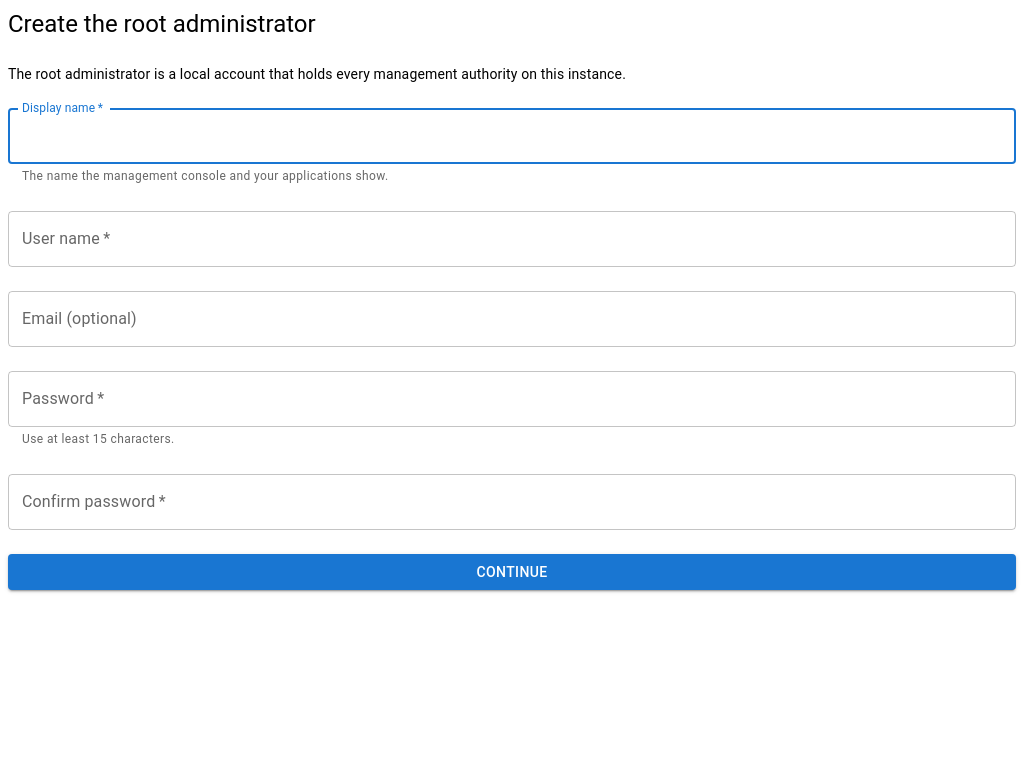
Test: RootAccountStep › refuses a confirmation that differs without continuing
This screenshot has width=1024, height=768.
In the field labelled "Display name *": point(512, 136) [8, 108, 1016, 164], type "  Root Admin  "
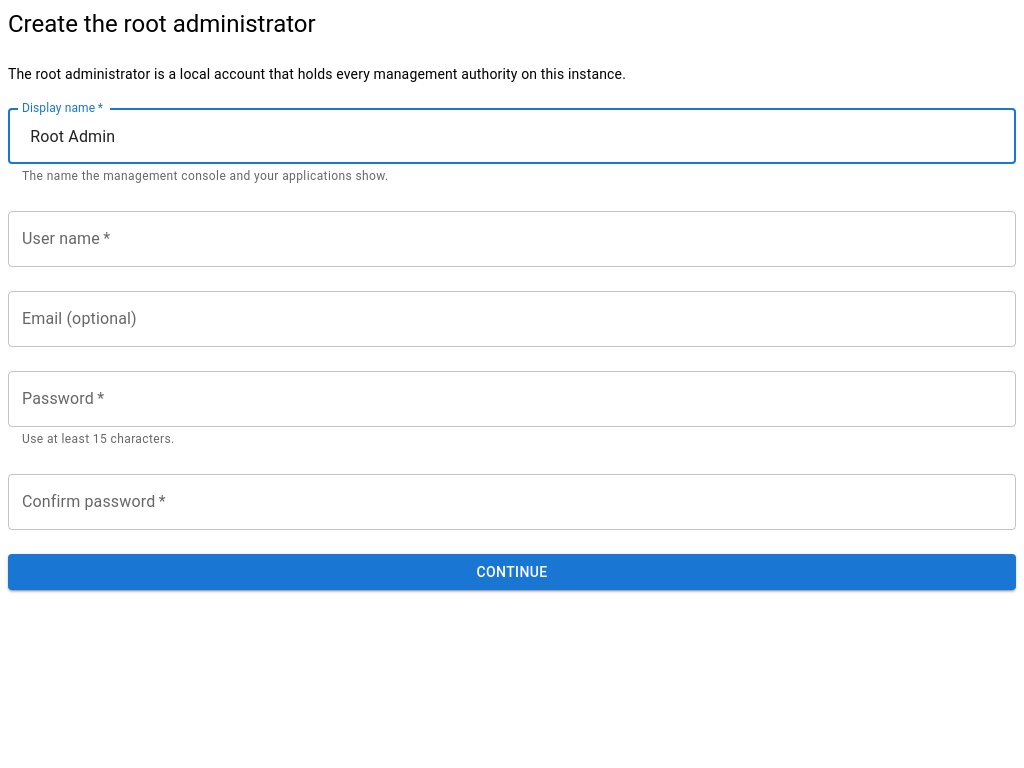
In the field labelled "User name *": point(512, 239) [8, 211, 1016, 267], type "  root  "
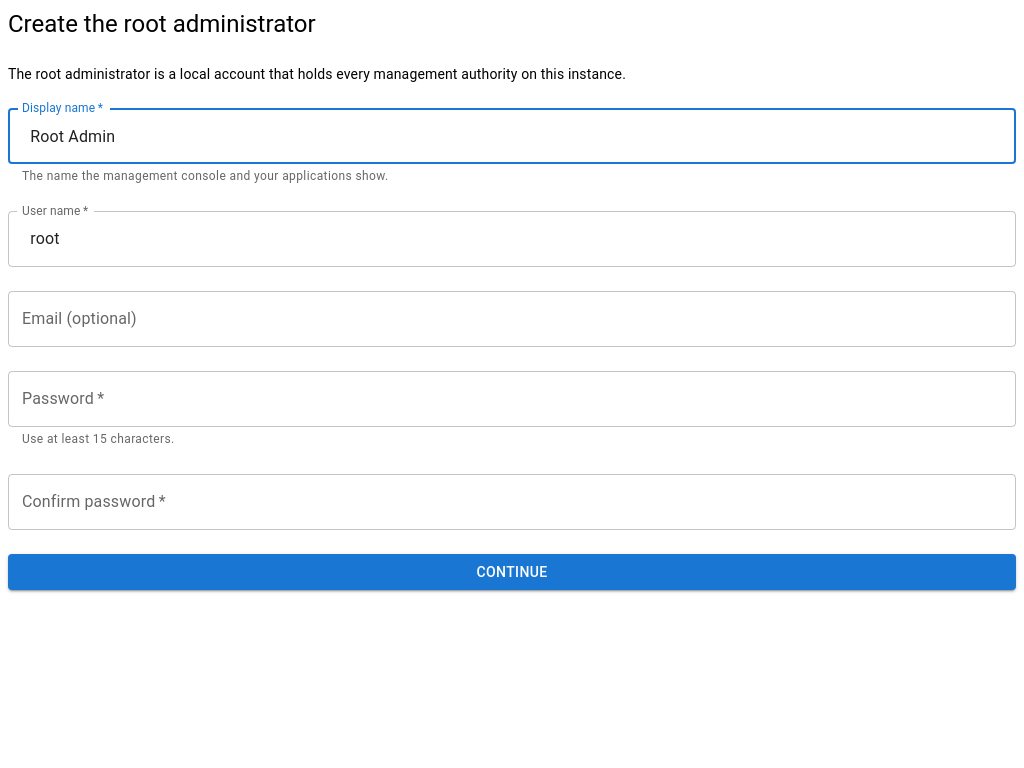
In the password field labelled "Password *": point(512, 399) [8, 371, 1016, 427], type "a long passphrase!"
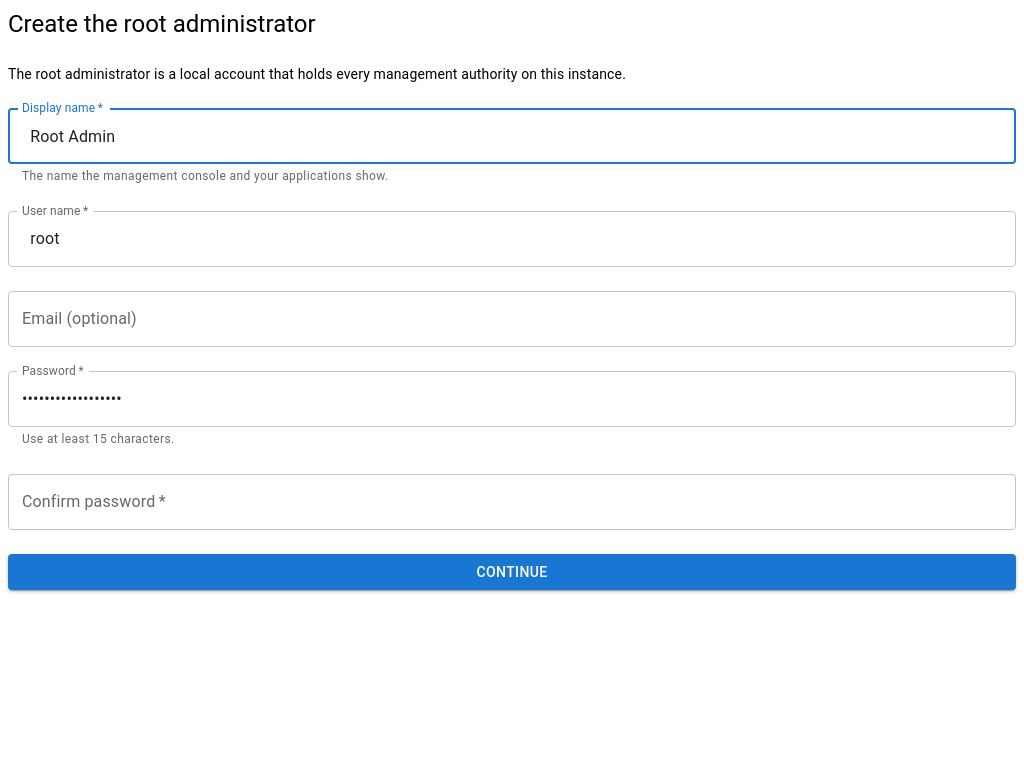
In the password field labelled "Confirm password *": point(512, 502) [8, 474, 1016, 530], type "another long passphrase!"
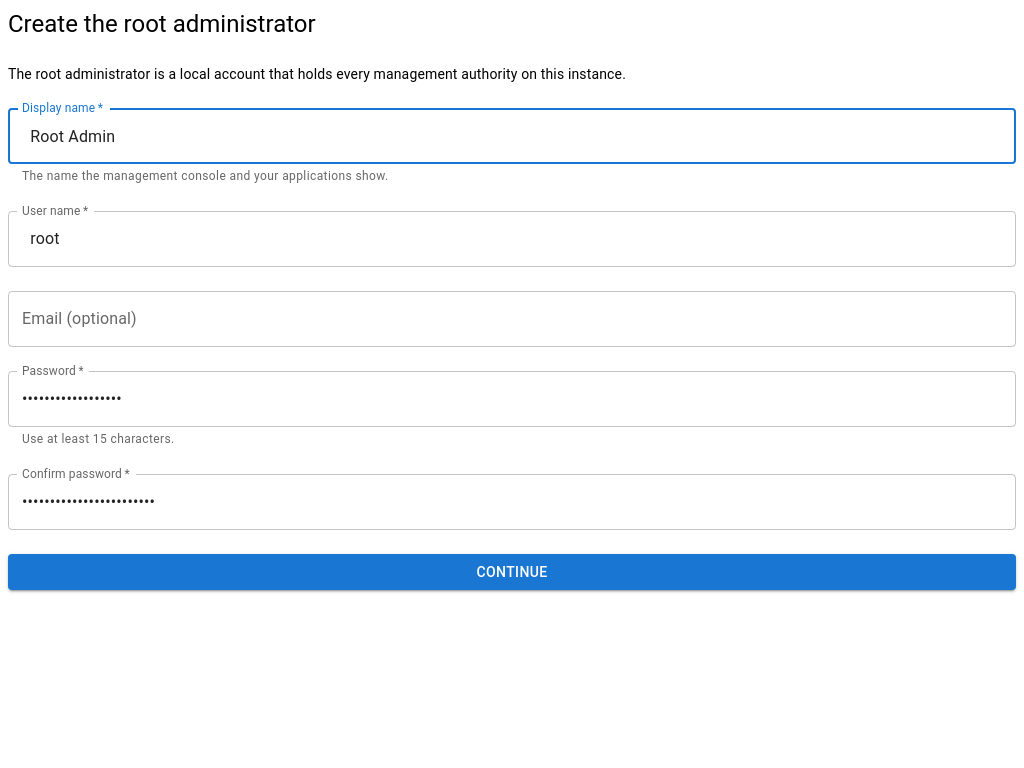
Click the button "Continue": point(512, 572) [8, 554, 1016, 590]
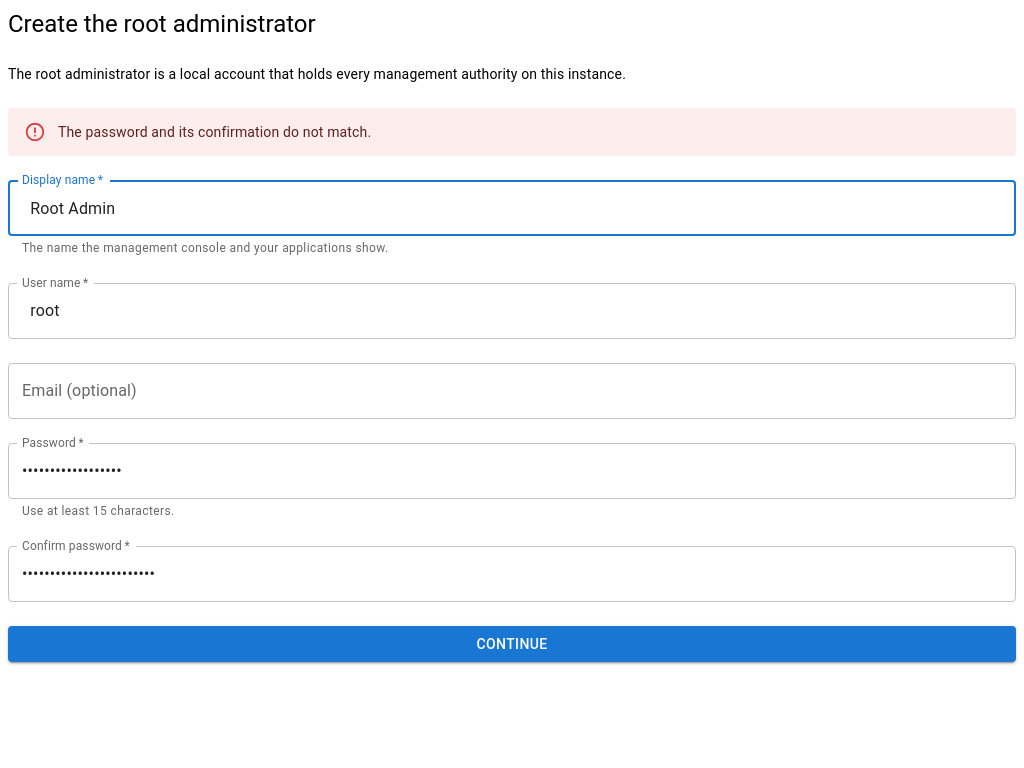
Result: the message reads "The password and its confirmation do not match." at [58, 124, 371, 140]
